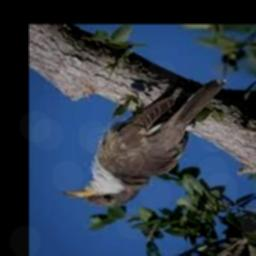Cuckoo: (64, 80, 228, 207)
